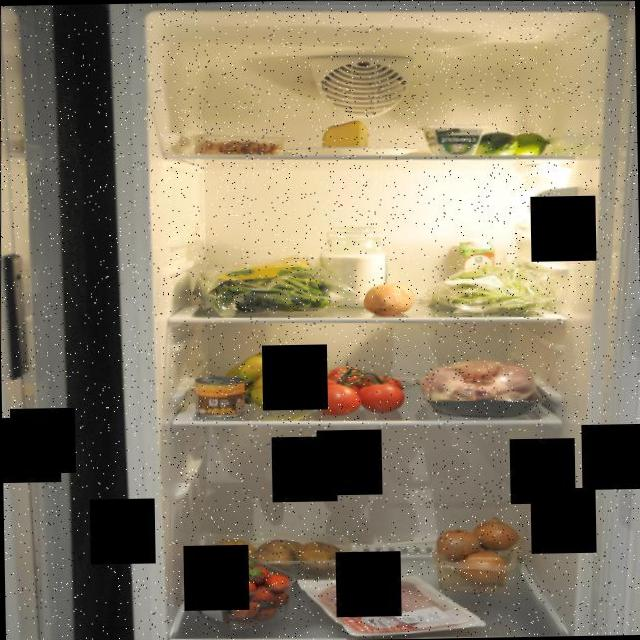Carne cerdo: (312, 579, 452, 639)
Carne pollo: (412, 353, 544, 418)
Cebolla: (436, 508, 522, 596)
Gambas/Langostinos: (190, 134, 278, 160)
Patata: (196, 530, 346, 572)
Plátano: (226, 346, 328, 408)
Queso: (414, 120, 484, 155), (320, 115, 372, 152)
Tomate: (311, 360, 408, 418)
corn: (188, 372, 245, 418)
green_beans: (431, 256, 559, 316)
heavy_cream: (454, 240, 498, 292)
spinach: (188, 253, 350, 317)
strawberries: (180, 550, 296, 630)
sugar: (315, 226, 390, 310)
sweet_potato: (355, 278, 424, 318)
